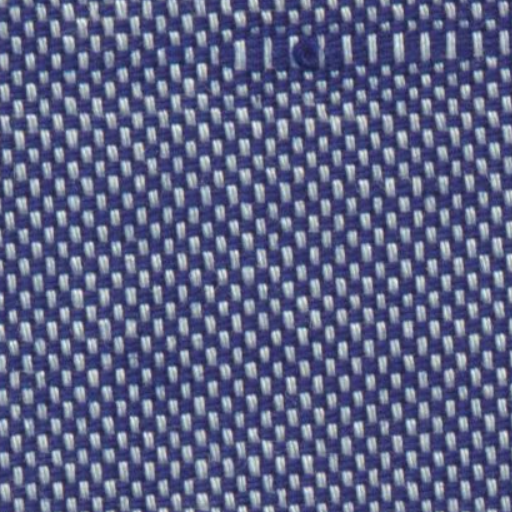DaiSha: (216, 18, 496, 86)
